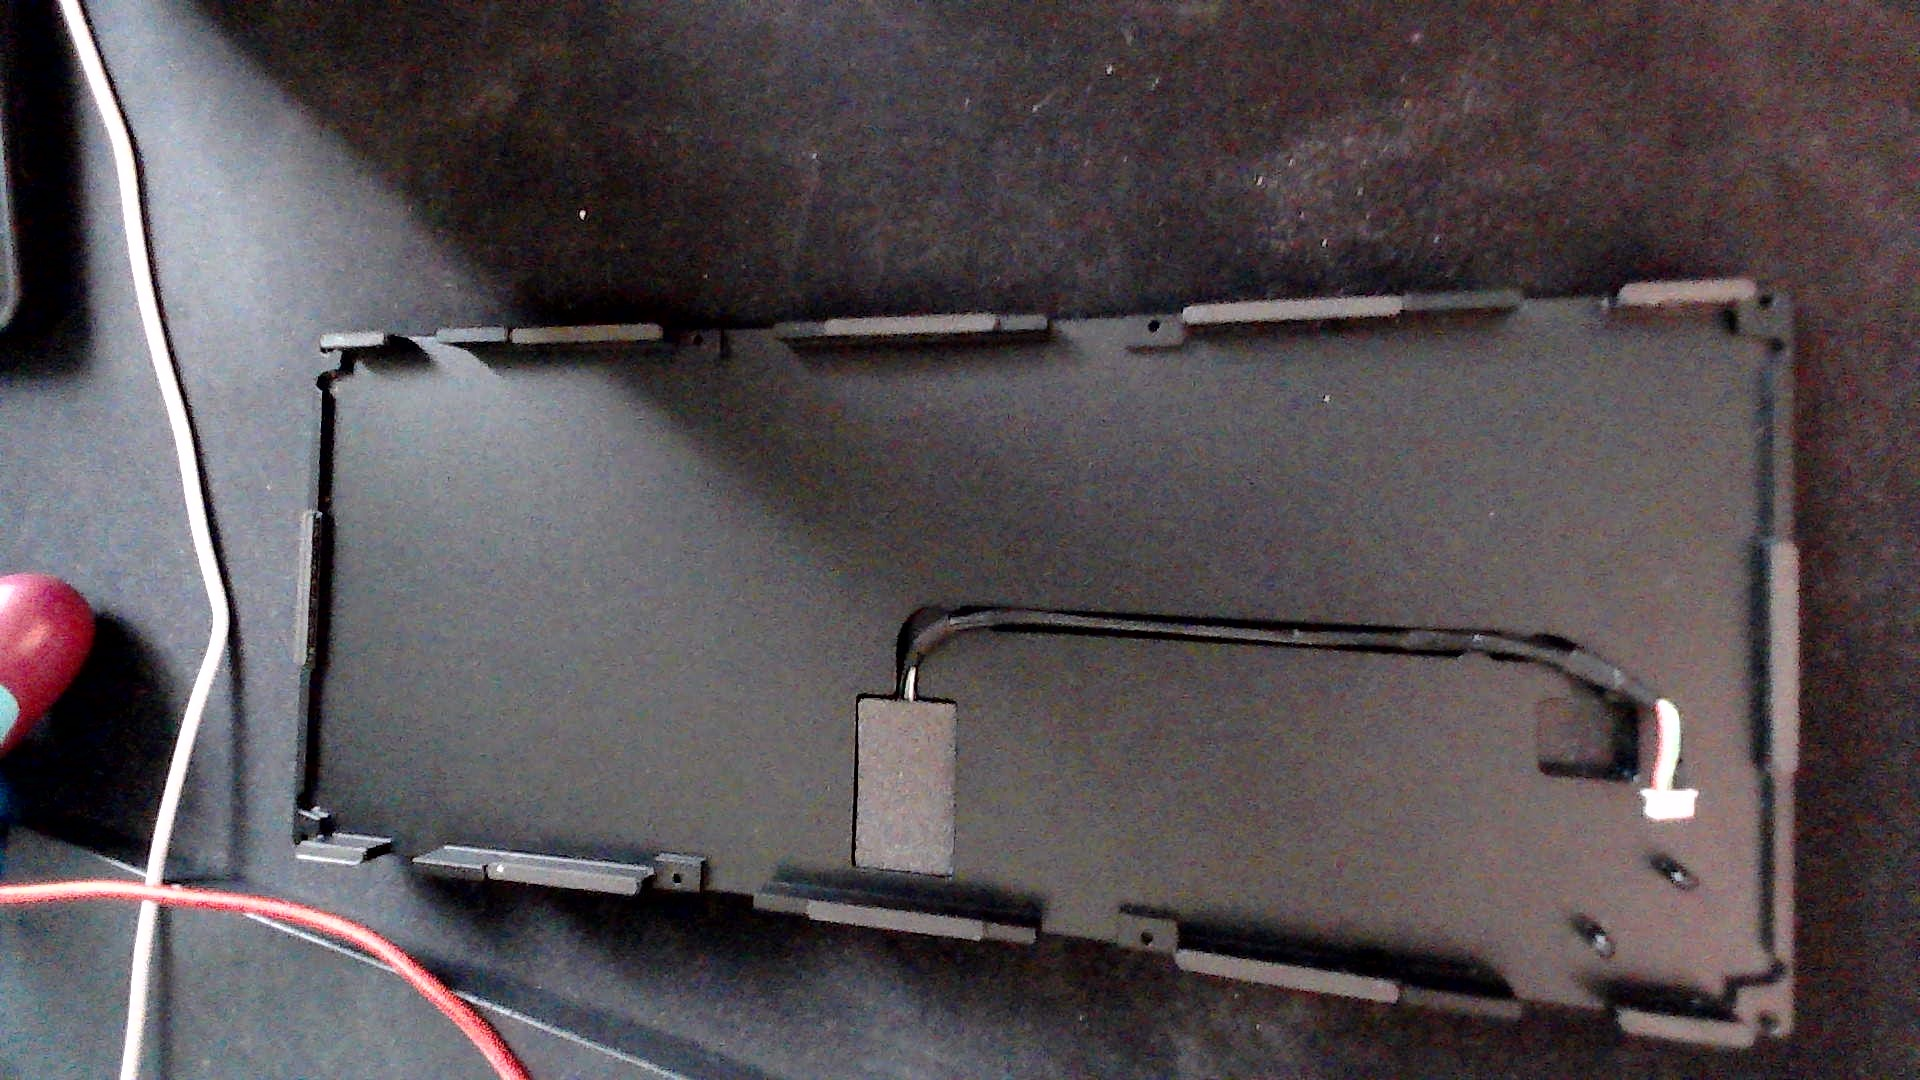case: (187, 248, 1855, 1040)
